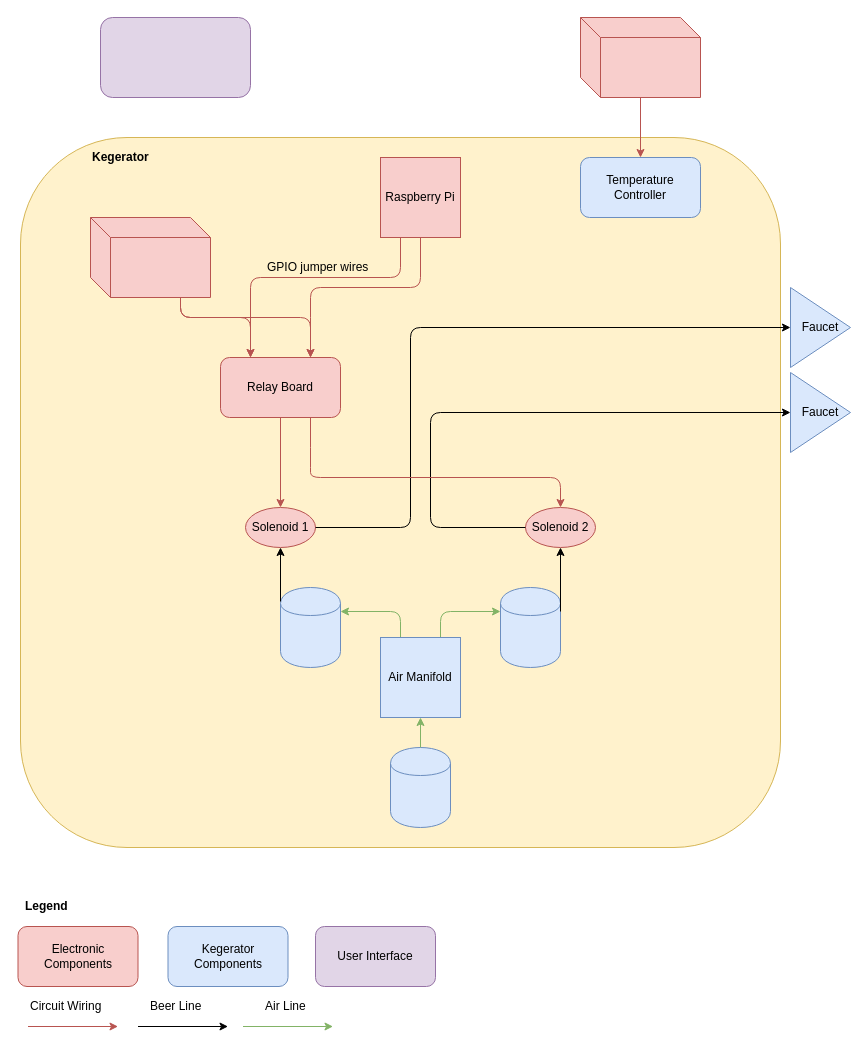
Some shapes in this 868 by 1052 pixel diagram are drawn without their labels. Here are the shapes that lost their labels. From the top down, the centre of each, then its label:
[175,57]: Alexa
[640,57]: Power Outlet
[150,257]: 12V power supply
[310,627]: Keg 1
[530,627]: Keg 2
[420,787]: C02
